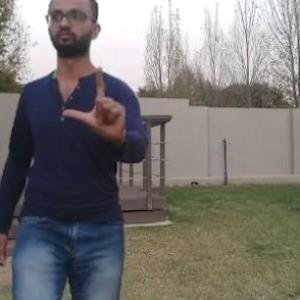land_hand: (59, 60, 131, 143)
